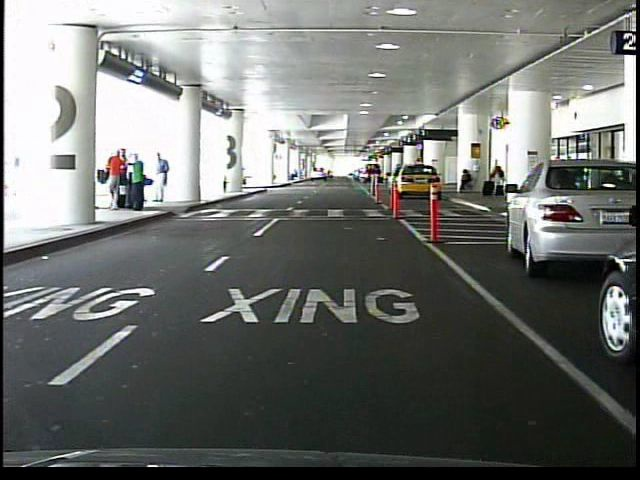person: (130, 152, 148, 212), (153, 153, 171, 206), (110, 149, 125, 209), (488, 161, 502, 198), (456, 170, 472, 196)
